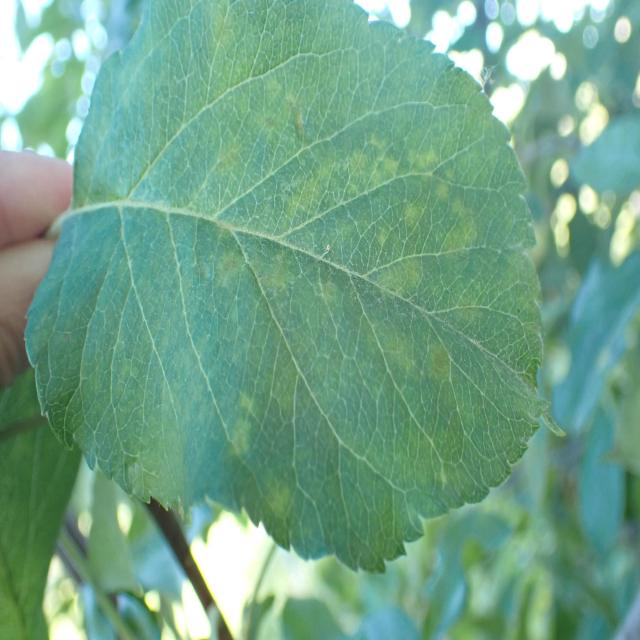scab: (39, 70, 536, 529)
